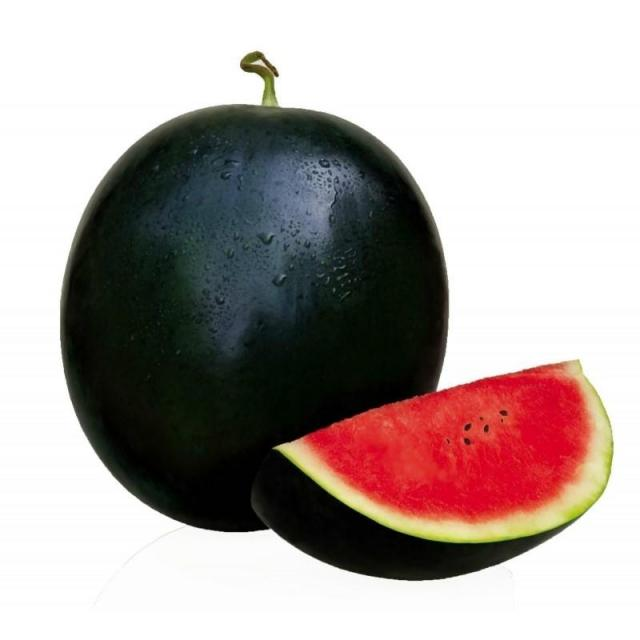watermelon: (50, 91, 456, 541), (255, 349, 616, 589)
